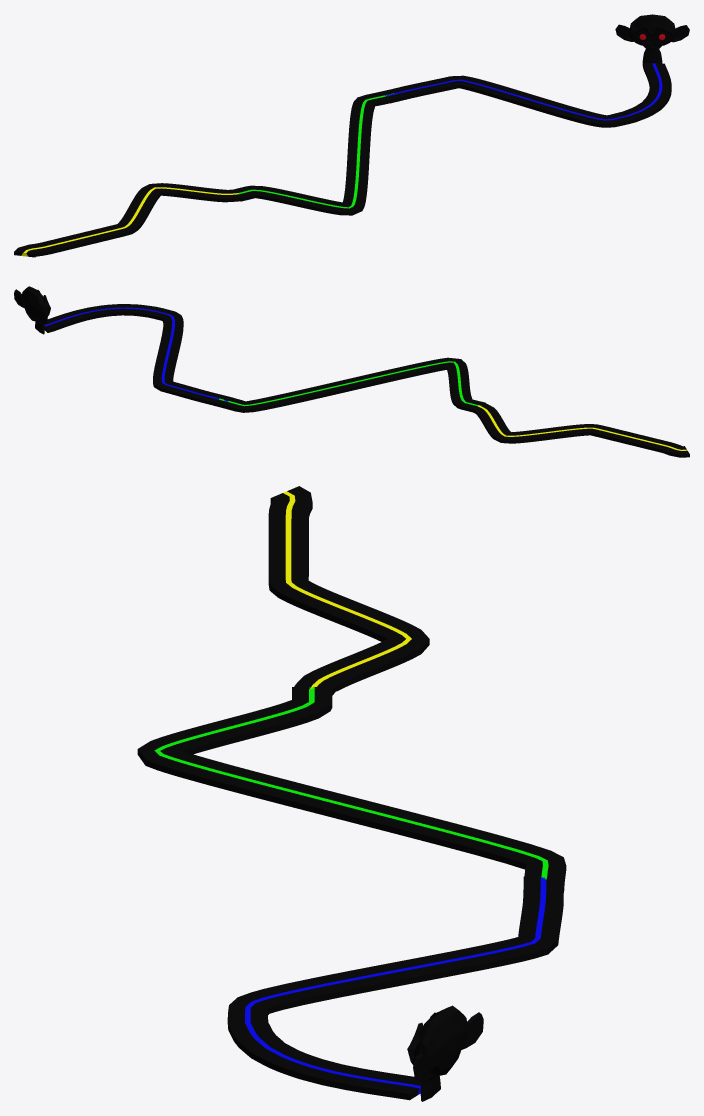
File: triyel.dae
3 renders of one model, top to bottom at view 1: azimuth 30°, elevation 25°; view 2: azimuth 150°, elevation 25°; view 3: azimuth 270°, elevation 25°, orthographic. The views are drawn at different scales.
Visible parts, largest first — view 1: kek, zold, piros, Suzanne; view 2: zold, kek, piros, Suzanne; view 3: zold, kek, piros, Suzanne.
Part boxes in pixels (x1=…): kek: x1=379, y1=63, x2=671, y2=127; zold: x1=230, y1=90, x2=396, y2=215; piros: x1=14, y1=183, x2=242, y2=257; Suzanne: x1=615, y1=14, x2=689, y2=63; zold: x1=214, y1=357, x2=485, y2=412; kek: x1=44, y1=304, x2=230, y2=405; piros: x1=473, y1=402, x2=689, y2=457; Suzanne: x1=14, y1=286, x2=50, y2=334; zold: x1=137, y1=687, x2=566, y2=890; kek: x1=227, y1=877, x2=563, y2=1100; piros: x1=268, y1=486, x2=429, y2=695; Suzanne: x1=407, y1=1005, x2=483, y2=1101.
Bounding box in the file's own units: 71.47 × 20.48 × 4.7.
